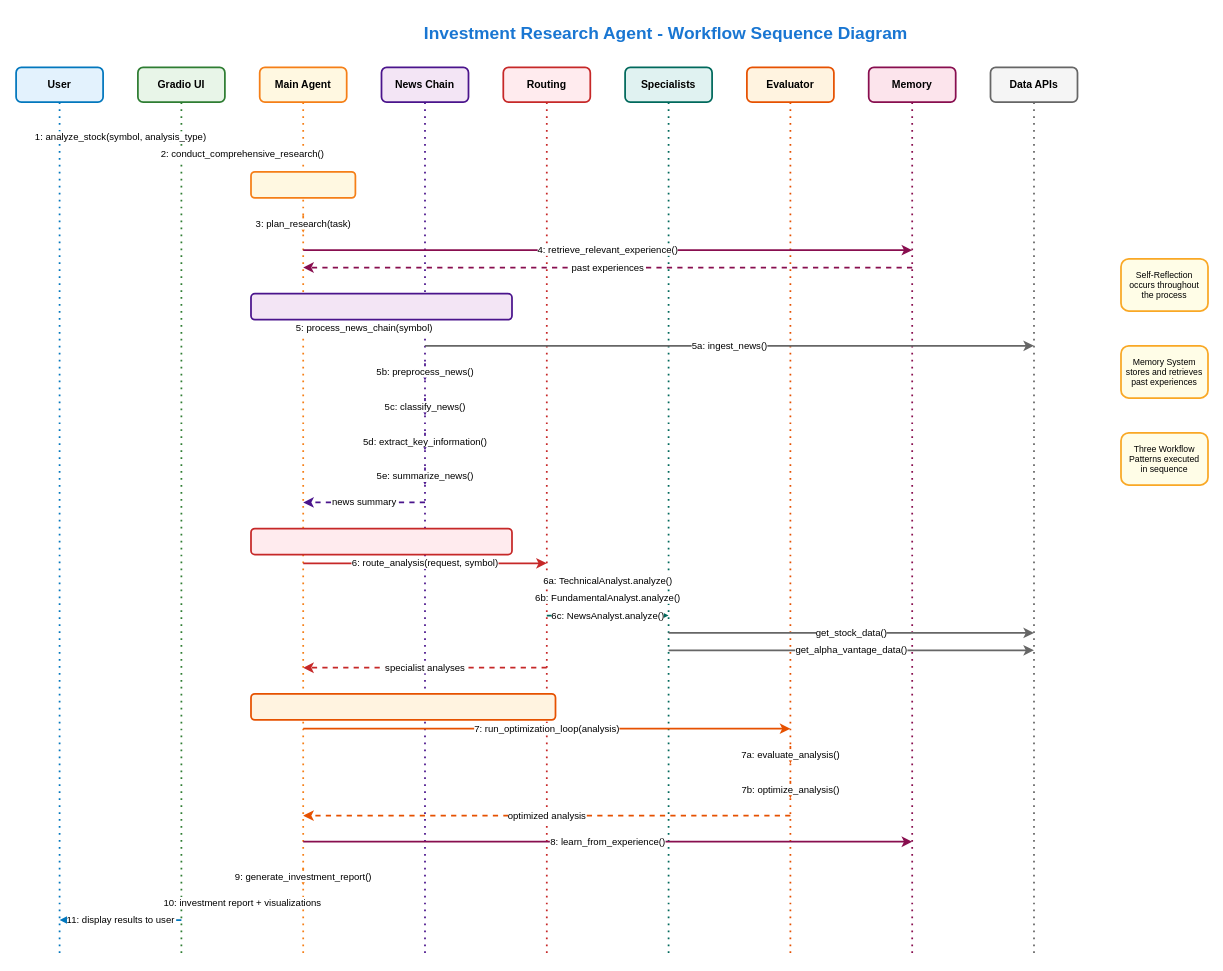
Image size: 1223x971. Some labels were removed from this diagram. Here are the shapes that lost their labels. From the top down, the centre of each, then its label:
At (x=303, y=184): "Planning Phase".
At (x=381, y=306): "Pattern 1: Prompt Chaining (News Processing)".
At (x=381, y=541): "Pattern 2: Routing (Specialist Analysis)".
At (x=403, y=706): "Pattern 3: Evaluator-Optimizer (Analysis Refinement)".
